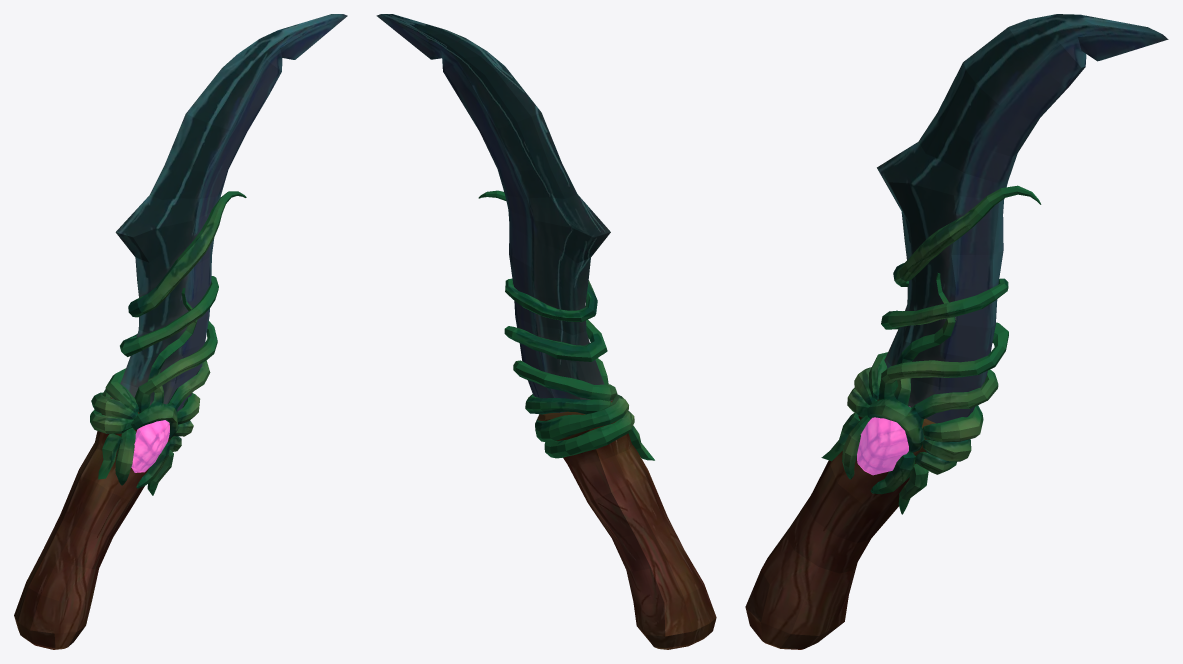
File: korzul_dagger.glb
3 renders of one model, left to right at view 1: azimuth 30°, elevation 25°; view 2: azimuth 150°, elevation 25°; view 3: azimuth 330°, elevation 25°, orthographic. The views are drawn at different scales.
Visible parts, largest first — view 1: dagger_low_joined, PM3D_Cylinder3D2_7, dagger_MAT_dagger_0, dagger1; view 2: dagger_low_joined, dagger_MAT_dagger_0, PM3D_Cylinder3D2_7; view 3: dagger_low_joined, PM3D_Cylinder3D2_7, dagger_MAT_dagger_0, dagger1.
Boxes of the visible parts, <box> form: dagger_low_joined: <box>112,14,347,411</box>; PM3D_Cylinder3D2_7: <box>90,191,246,495</box>; dagger_MAT_dagger_0: <box>14,397,174,649</box>; dagger1: <box>131,420,169,472</box>; dagger_low_joined: <box>376,14,612,412</box>; dagger_MAT_dagger_0: <box>537,399,716,649</box>; PM3D_Cylinder3D2_7: <box>478,190,654,460</box>; dagger_low_joined: <box>877,14,1168,423</box>; PM3D_Cylinder3D2_7: <box>821,185,1041,514</box>; dagger_MAT_dagger_0: <box>745,399,935,649</box>; dagger1: <box>857,406,909,475</box>.
Size of the model in its own units: 0.898 by 1.45 by 0.1973.
Materials: 1 (1 with a texture image).
